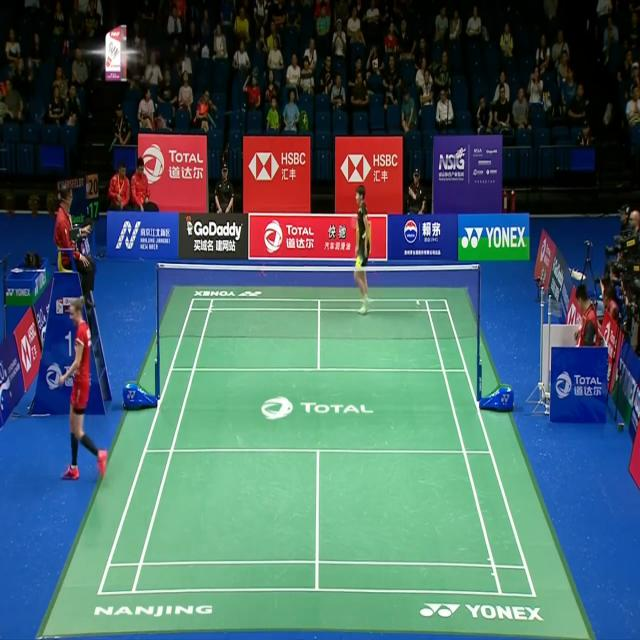Player1: (44, 294, 116, 488)
Player2: (341, 180, 387, 330)
